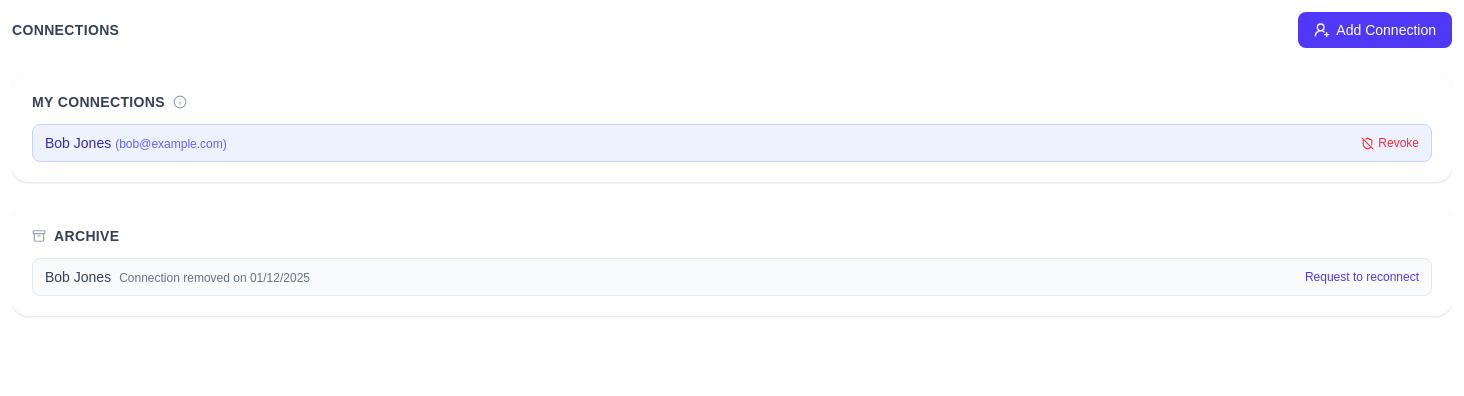
Test case: ConnectionsPanel — revoked connections archive › shows error when sendPinRequest fails on reconnect
This screenshot has width=1464, height=396.
Click the button with aria-label "request to reconnect with bob". click: coordinates (1362, 277)
box: [1305,269,1419,285]
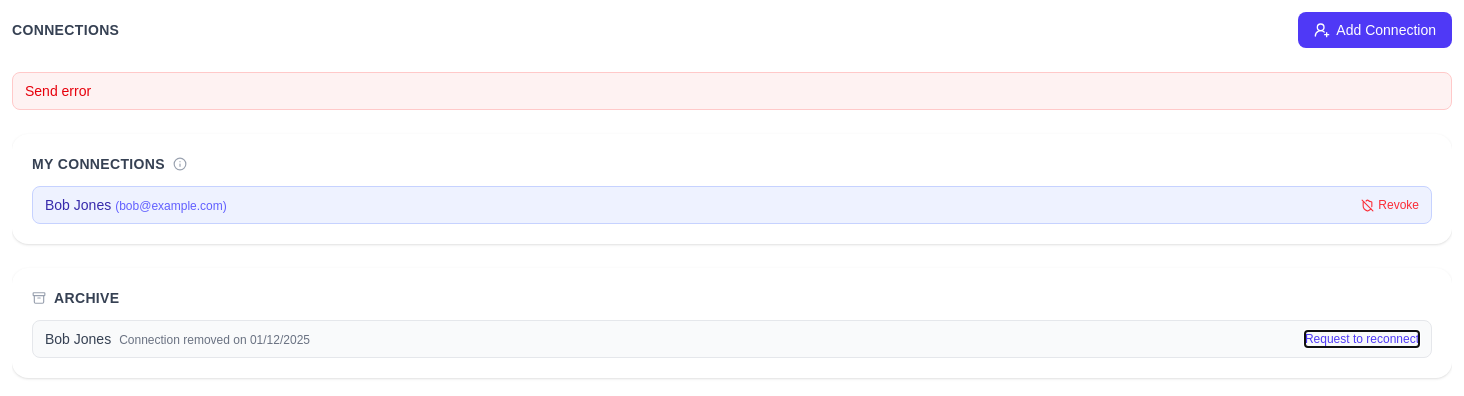
Now the text "Send error" is shown, box [12,72,1452,110]
